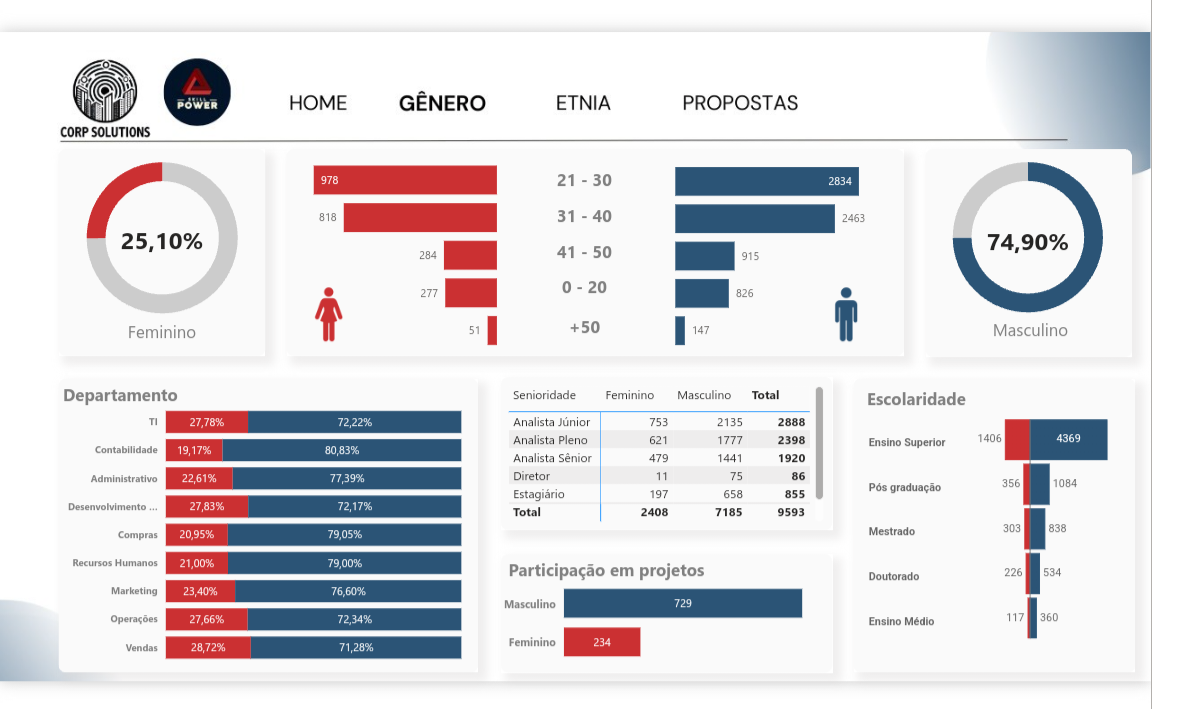

What the dashboard file says about the page in this screenshot:
{"tool":"powerbi","page":{"name":"Gênero","canvas":[1280,720],"ordinal":2},"visuals":[{"type":"shape","box":[140.7,192.7,78.8,104],"z":0,"group":"g1"},{"type":"group","id":"g1","title":"Grupo 1","box":[140.7,192.7,78.8,104],"z":0},{"type":"shape","box":[65.1,129.7,230,230],"z":1000},{"type":"shape","box":[1028.4,129.7,229.7,231.2],"z":2000},{"type":"shape","box":[318.3,130,686.7,230],"z":3000},{"type":"donutChart","fields":{"Category":["Funcionarios.Genero"],"Y":["CountNonNull(Funcionarios.Genero)"]},"box":[70,118.7,220,220],"z":4000},{"type":"card","fields":{"Values":["Funcionarios.%gen_feminino"]},"box":[65.6,184,229.7,95.3],"z":5000},{"type":"donutChart","fields":{"Category":["Funcionarios.Genero"],"Y":["CountNonNull(Funcionarios.Genero)"]},"box":[1032.4,118.2,220.3,218.8],"z":6000},{"type":"card","fields":{"Values":["Funcionarios.%gen_masculino"]},"box":[1033.1,193.4,220.3,78.1],"z":7000},{"type":"barChart","fields":{"Category":["Funcionarios.Faixa etária"],"Y":["CountNonNull(Funcionarios.Genero)"]},"box":[746.3,136.7,245.3,217.2],"z":8000},{"type":"barChart","fields":{"Category":["Funcionarios.Faixa etária"],"Y":["CountNonNull(Funcionarios.Genero)"]},"box":[318.8,135.9,239,218.8],"z":9000},{"type":"textbox","box":[589.1,146.1,122.2,45.6],"z":10000},{"type":"textbox","box":[589.1,187.2,122.2,45.6],"z":11000},{"type":"textbox","box":[589.1,226.1,122.2,45.6],"z":12000},{"type":"textbox","box":[589.1,265,122.2,45.6],"z":13000},{"type":"textbox","box":[589.1,310.6,122.2,45.6],"z":14000},{"type":"textbox","box":[65,315,230,46.7],"z":15000},{"type":"textbox","box":[1031.7,313.3,230,46.7],"z":16000},{"type":"image","box":[905,279.1,70,70],"z":17000},{"type":"image","box":[330,278.3,70,70],"z":18000},{"type":"shape","box":[65,385,466.7,326.7],"z":19000},{"type":"hundredPercentStackedBarChart","title":"Departamento","fields":{"Category":["Departamentos.nome"],"Y":["CountNonNull(Trabalha em.id_funcionario)"],"Series":["Funcionarios.Genero"]},"box":[54.4,394.9,463.3,319],"z":20000},{"type":"textbox","box":[65.8,384.8,158.2,40.5],"z":21000},{"type":"shape","box":[556.7,580,368.3,131.7],"z":22000},{"type":"barChart","fields":{"Series":["Funcionarios.Genero"],"Category":["Funcionarios.Genero"],"Y":["CountNonNull(Trabalha em.id_projeto)"]},"box":[553.8,587.5,368.8,132.5],"z":23000},{"type":"textbox","box":[560,580,265,36.7],"z":24000},{"type":"shape","box":[557.1,384.2,368.3,170],"z":25000},{"type":"shape","box":[948.3,385,313.3,326.7],"z":26000},{"type":"pivotTable","fields":{"Rows":["Funcionarios.Senioridade"],"Values":["CountNonNull(Funcionarios.Genero)"],"Columns":["Funcionarios.Genero"]},"box":[561.2,389.2,360,160],"z":27000},{"type":"TornadoChart1452517688218","fields":{"Values":["CountNonNull(Funcionarios.Formação)"],"Series":["Funcionarios.Genero"],"Category":["Funcionarios.Formação"]},"box":[961.7,425,290,273.3],"z":28000},{"type":"textbox","box":[960,390,158.6,40],"z":29000},{"type":"actionButton","box":[310,58.8,96.2,40],"z":30000},{"type":"actionButton","box":[601.2,58.8,96.2,40],"z":31000},{"type":"actionButton","box":[746.2,58.8,96.2,40],"z":32000},{"type":"actionButton","box":[52.5,13.8,218.8,106.2],"z":33000}]}

Visuals, with their boxes on the page's 1280x720 design canvas (x1, y1, x2, y2). These are canvas units, not pixel positions in the 1200x709 screenshot, which may show the page scaled, cropped or inside an application window:
shape: 141 193 220 297
"Grupo 1" group: 141 193 220 297
shape: 65 130 295 360
shape: 1028 130 1258 361
shape: 318 130 1005 360
donutChart - Funcionarios.Genero x CountNonNull(Funcionarios.Genero): 70 119 290 339
card - Funcionarios.%gen_feminino: 66 184 295 279
donutChart - Funcionarios.Genero x CountNonNull(Funcionarios.Genero): 1032 118 1253 337
card - Funcionarios.%gen_masculino: 1033 193 1253 272
barChart - Funcionarios.Faixa etária x CountNonNull(Funcionarios.Genero): 746 137 992 354
barChart - Funcionarios.Faixa etária x CountNonNull(Funcionarios.Genero): 319 136 558 355
textbox: 589 146 711 192
textbox: 589 187 711 233
textbox: 589 226 711 272
textbox: 589 265 711 311
textbox: 589 311 711 356
textbox: 65 315 295 362
textbox: 1032 313 1262 360
image: 905 279 975 349
image: 330 278 400 348
shape: 65 385 532 712
"Departamento" hundredPercentStackedBarChart: 54 395 518 714
textbox: 66 385 224 425
shape: 557 580 925 712
barChart - Funcionarios.Genero x Funcionarios.Genero: 554 588 923 720
textbox: 560 580 825 617
shape: 557 384 925 554
shape: 948 385 1262 712
pivotTable - Funcionarios.Senioridade x CountNonNull(Funcionarios.Genero): 561 389 921 549
TornadoChart1452517688218 - CountNonNull(Funcionarios.Formação) x Funcionarios.Genero: 962 425 1252 698
textbox: 960 390 1119 430
actionButton: 310 59 406 99
actionButton: 601 59 697 99
actionButton: 746 59 842 99
actionButton: 52 14 271 120
